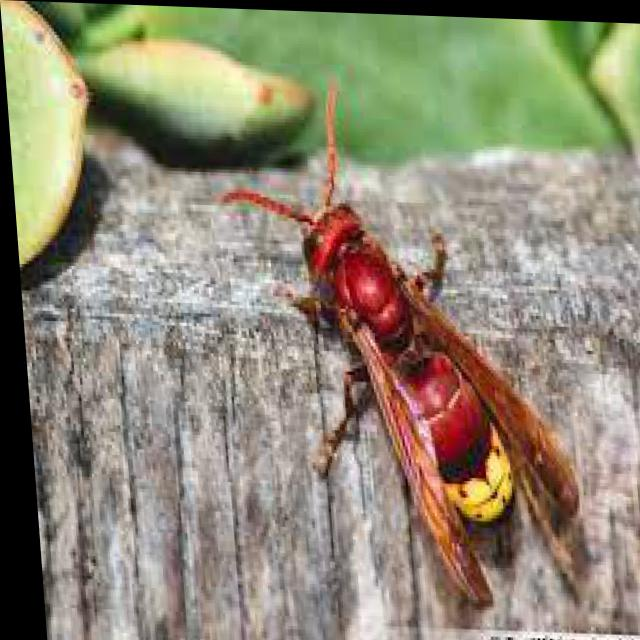Vespa Orientalis: (186, 52, 602, 620)
